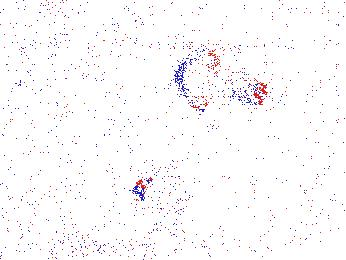flame jellyfish: (172, 53, 268, 113), (131, 172, 189, 221), (1, 174, 37, 233)
